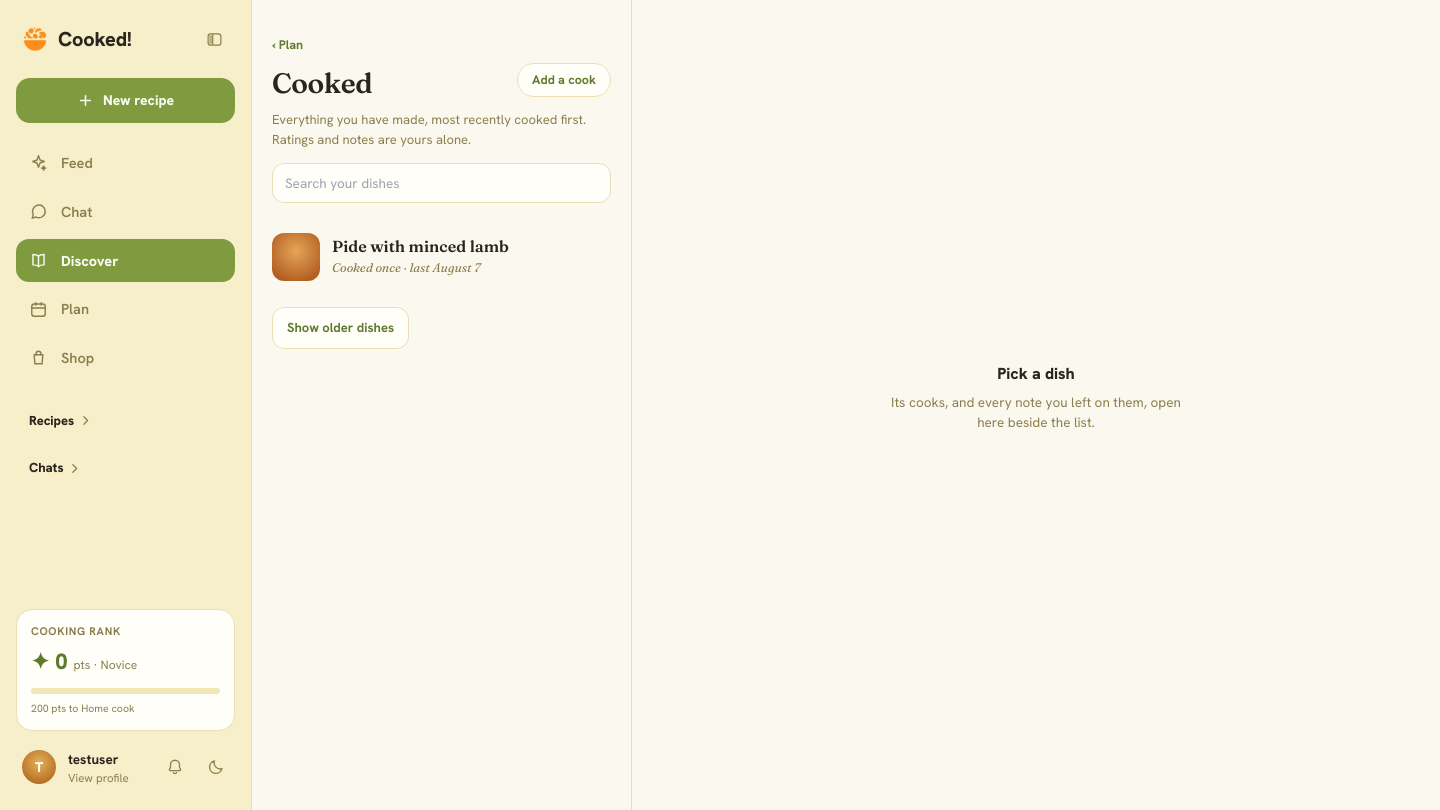
Test: /cooked › pages through older dishes on an explicit control
The width and height of the screenshot is (1440, 810).
Click the button "Show older dishes".
click(341, 328)  # box [272, 307, 409, 349]
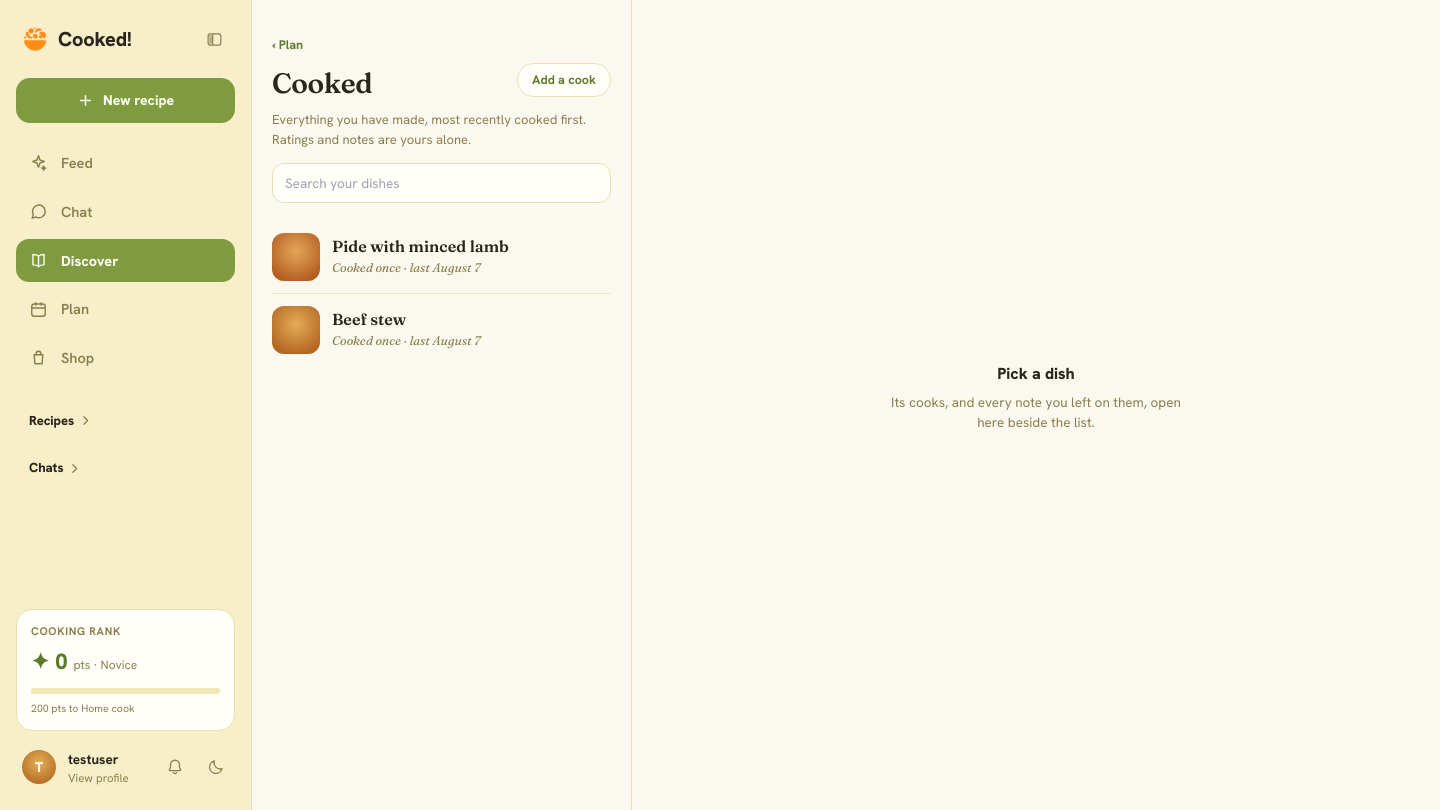
Expected: the text "Beef stew" is shown, [332, 310, 406, 329]
